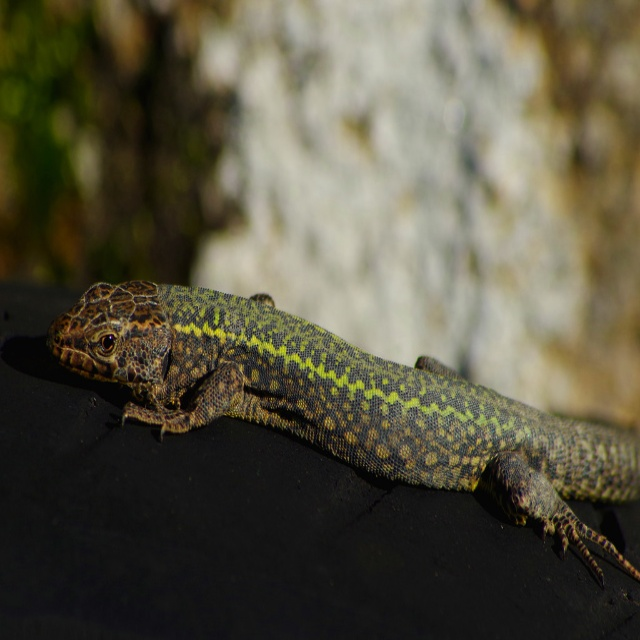Lizard: (60, 278, 628, 600)
